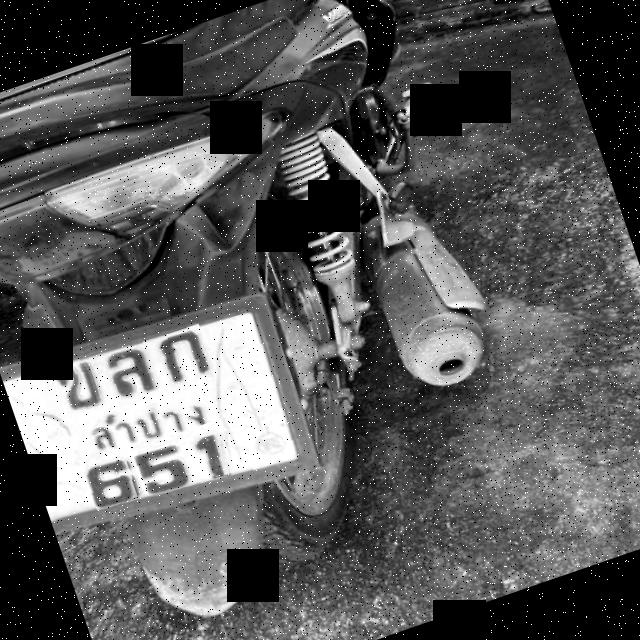letters: (154, 323, 217, 390), (96, 338, 158, 404), (82, 451, 140, 512), (183, 420, 236, 482), (133, 445, 182, 504), (48, 356, 96, 414)
license-plate: (2, 301, 312, 527)
province: (71, 378, 232, 465)
